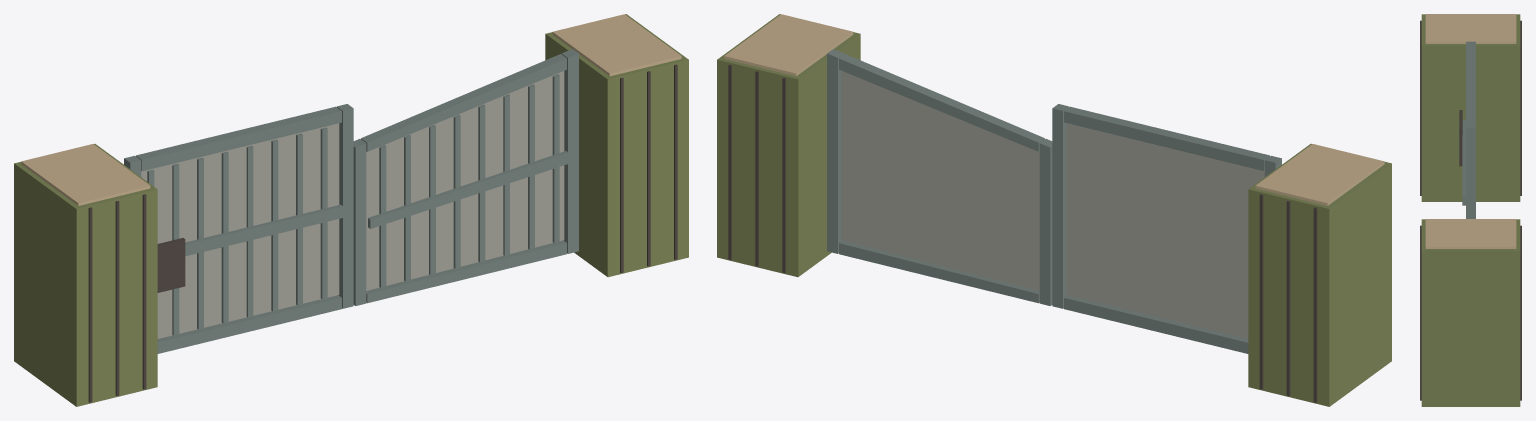
The model's file is SM_PuertaVia_v1_ChapaOndulada_e1_Danado_LOD0.fbx.
3 renders of one model, left to right at view 1: azimuth 30°, elevation 25°; view 2: azimuth 150°, elevation 25°; view 3: azimuth 270°, elevation 25°, orthographic. The views are drawn at different scales.
Parts seen in each view (by area): view 1: SM_bloques.puerta_via_v5_LOD0, Hoja_E, Hoja_O; view 2: SM_bloques.puerta_via_v5_LOD0, Hoja_E, Hoja_O; view 3: SM_bloques.puerta_via_v5_LOD0, Hoja_O, Hoja_E.
Part boxes in pixels (box(x1,y1,x2,y2)): SM_bloques.puerta_via_v5_LOD0: box(14, 14, 688, 406); Hoja_E: box(353, 49, 578, 305); Hoja_O: box(124, 104, 353, 353); SM_bloques.puerta_via_v5_LOD0: box(717, 14, 1391, 406); Hoja_E: box(827, 49, 1052, 305); Hoja_O: box(1052, 104, 1281, 353); SM_bloques.puerta_via_v5_LOD0: box(1420, 14, 1521, 406); Hoja_O: box(1459, 41, 1475, 205); Hoja_E: box(1466, 160, 1475, 218).
Bounding box in the file's own units: 6.8 × 2.16 × 1.24.
